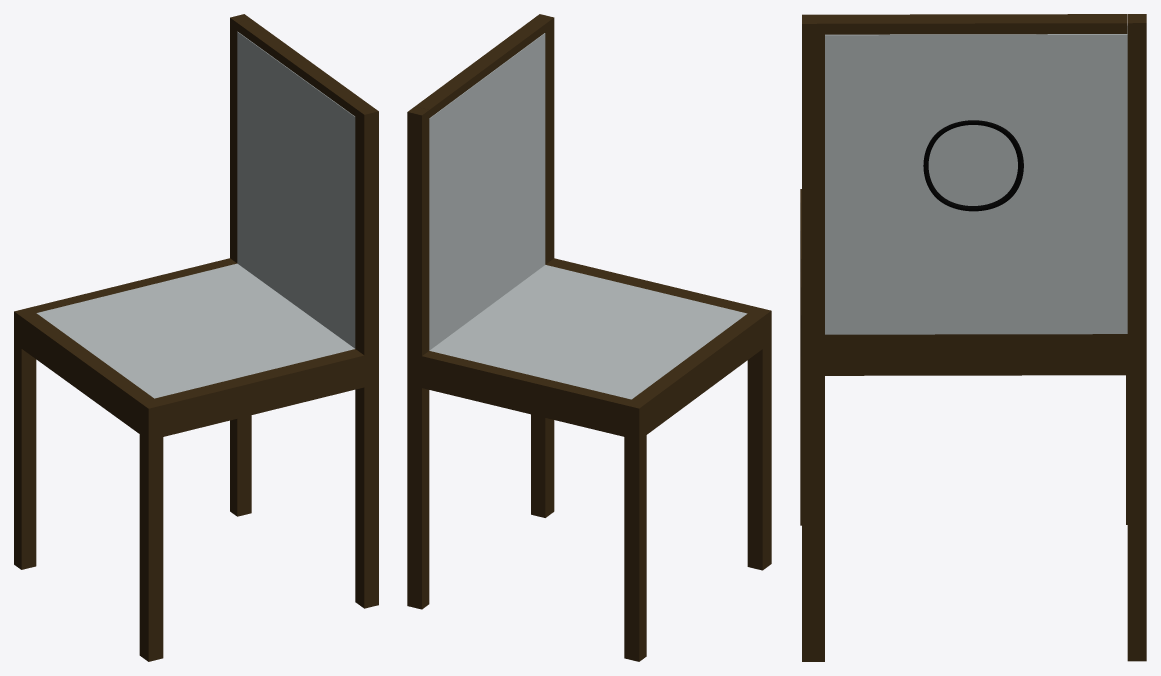
File: krug.fbx
3 views of the same model, side by side, from view 1: azimuth 30°, elevation 25°; view 2: azimuth 150°, elevation 25°; view 3: azimuth 270°, elevation 25° (orthographic). The views are drawn at different scales.
Parts seen in each view (by area): view 1: Cube; view 2: Cube; view 3: Cube, Plane.008.
Part boxes in pixels (left/top/right/bottom): Cube: left=14, top=14, right=378, bottom=661; Cube: left=407, top=14, right=771, bottom=661; Cube: left=800, top=14, right=1146, bottom=661; Plane.008: left=923, top=120, right=1023, bottom=211.
Size of the model in its own units: 202 by 409 by 201.
